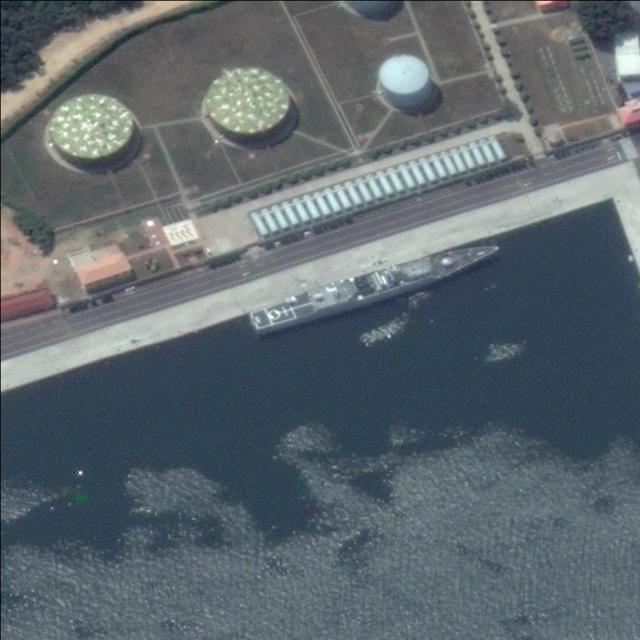Auxiliary Ships: (242, 233, 503, 333)
